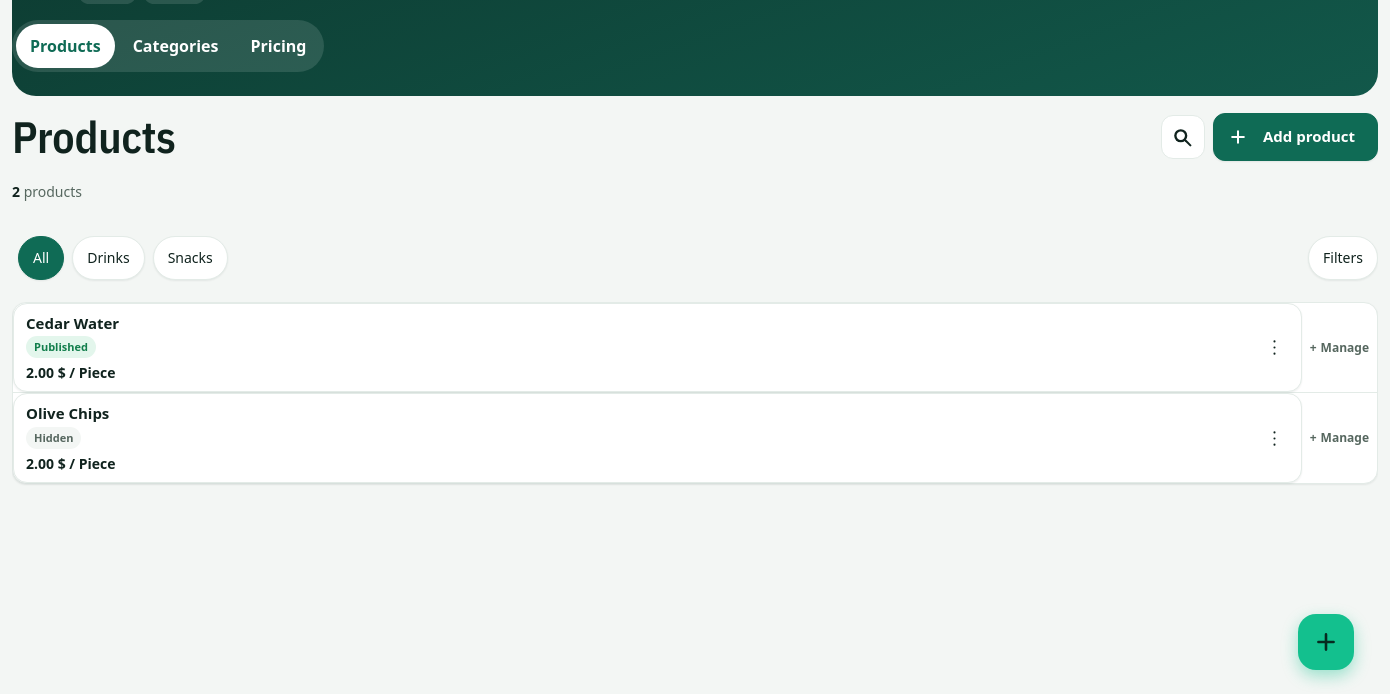
Test: Hide and Publish menu actions send the existing publication update
The width and height of the screenshot is (1390, 694).
expect the text "Cedar Water" is shown: met, box [26,313,119,333]
Click the button named "More actions for Cedar Water" at (1275, 348), box [1253,326,1297,370]
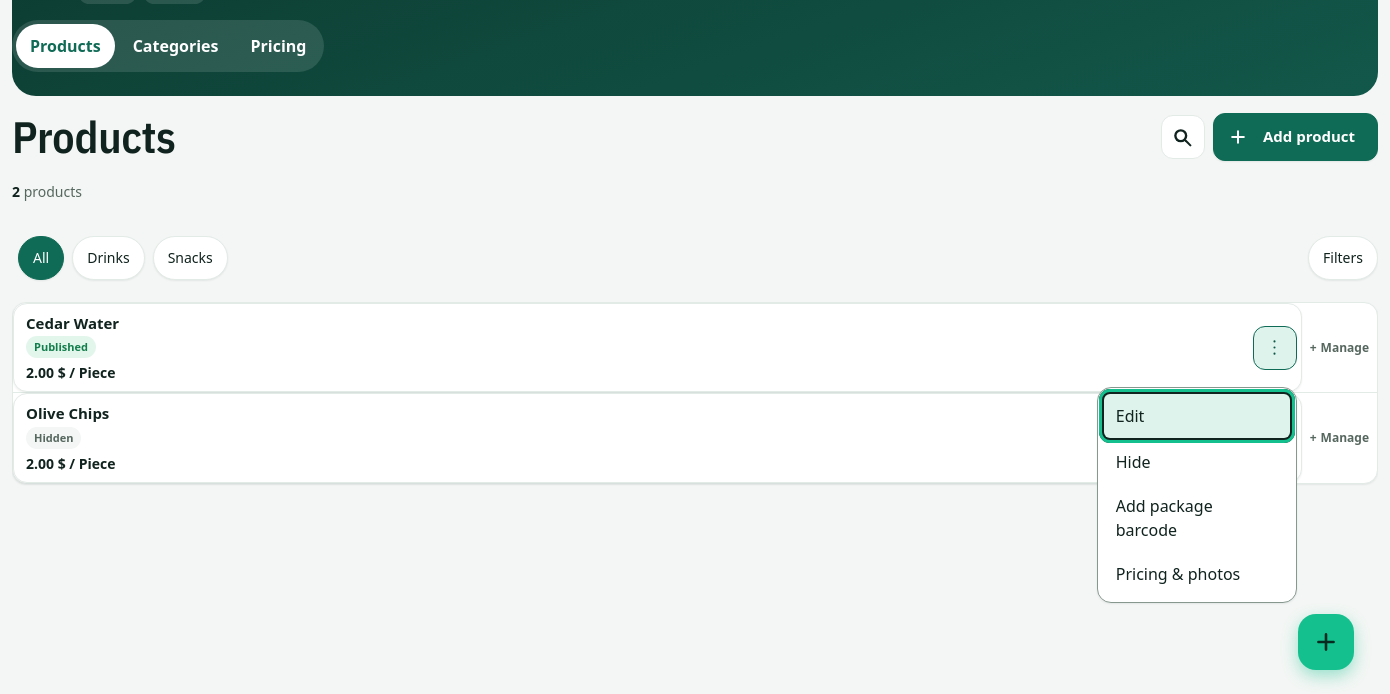
Click the button "Hide" at (1197, 462), box [1104,440,1290,484]
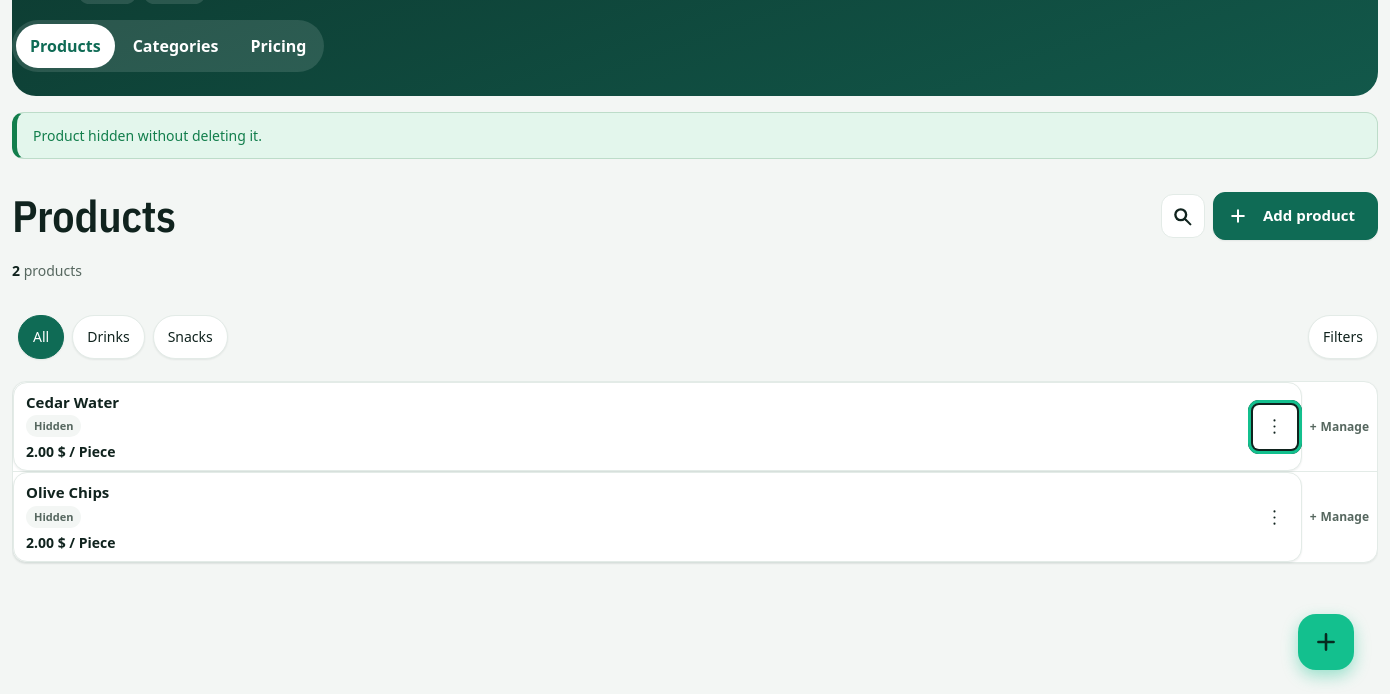
expect the text "Product hidden without deleting it." is shown: met, box [12,112,1378,159]
Click the button named "More actions for Cedar Water" at (1275, 426), box [1253,404,1297,448]
(page scrolled)
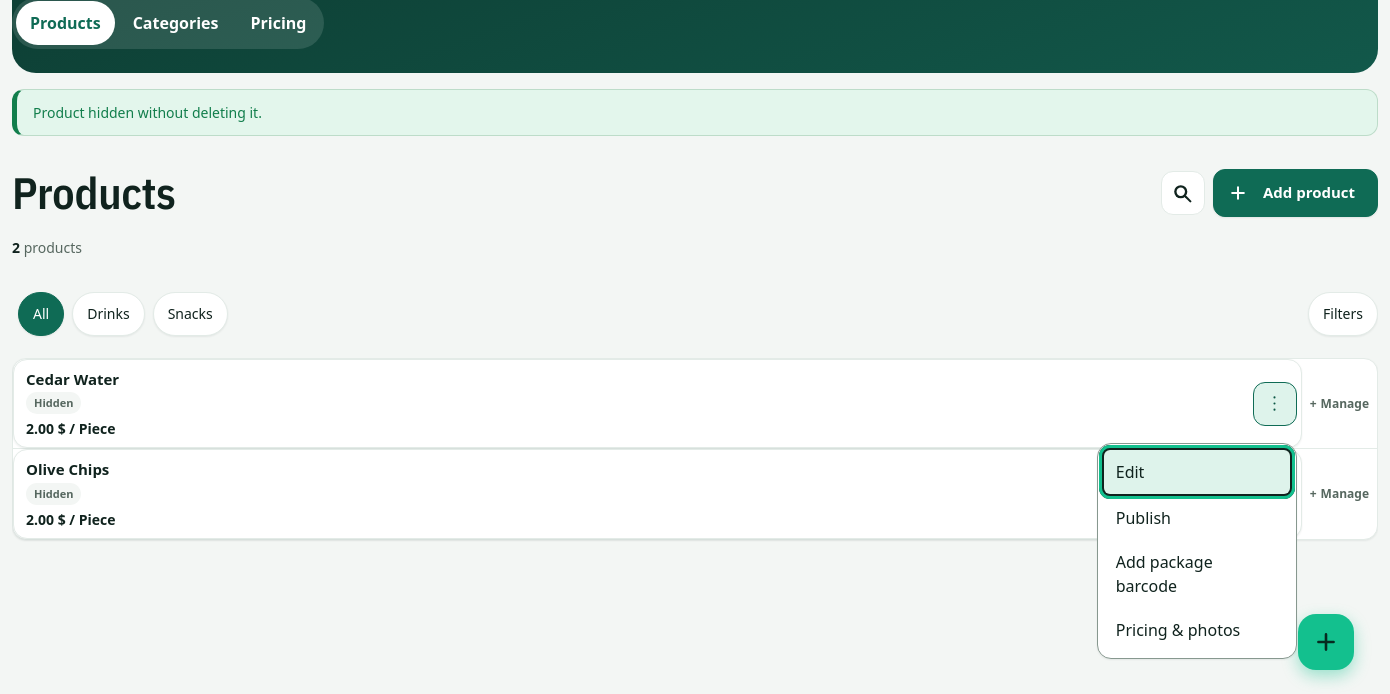
Click the button "Publish" at (1197, 518), box [1104,496,1290,540]
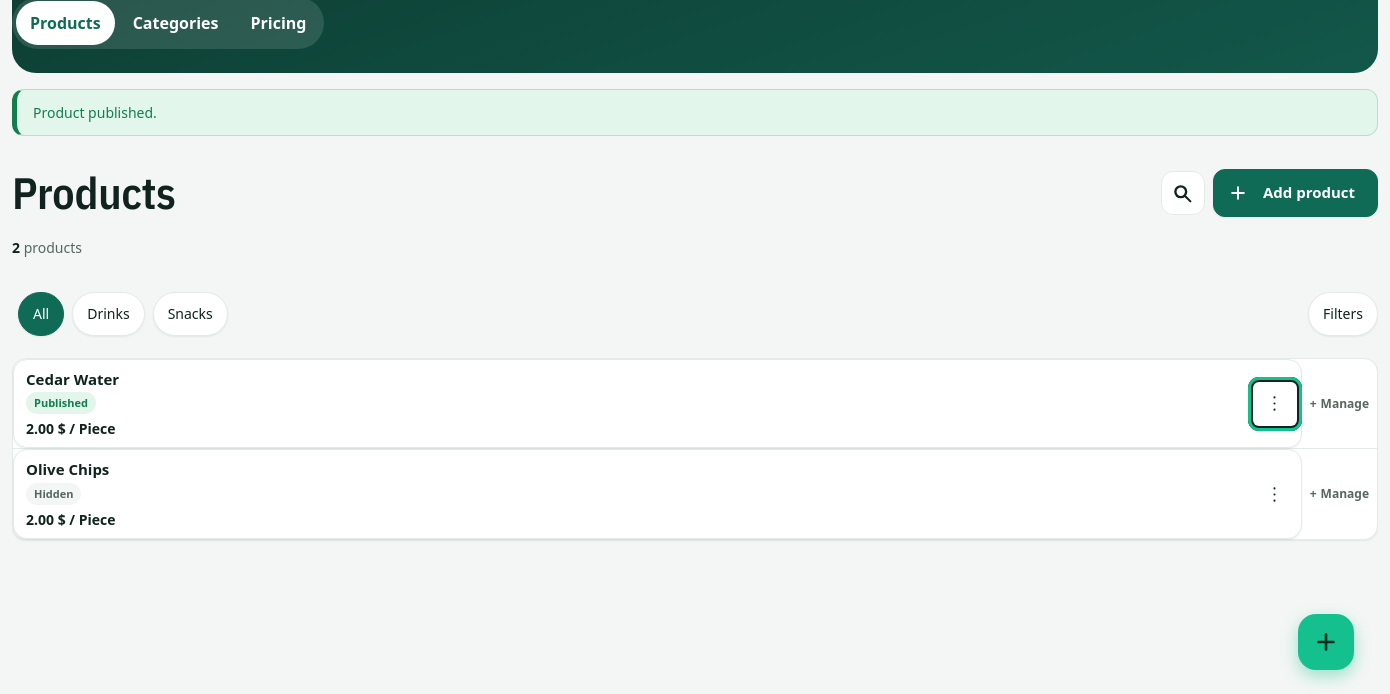
expect the text "Product published." is shown: met, box [12,89,1378,136]
